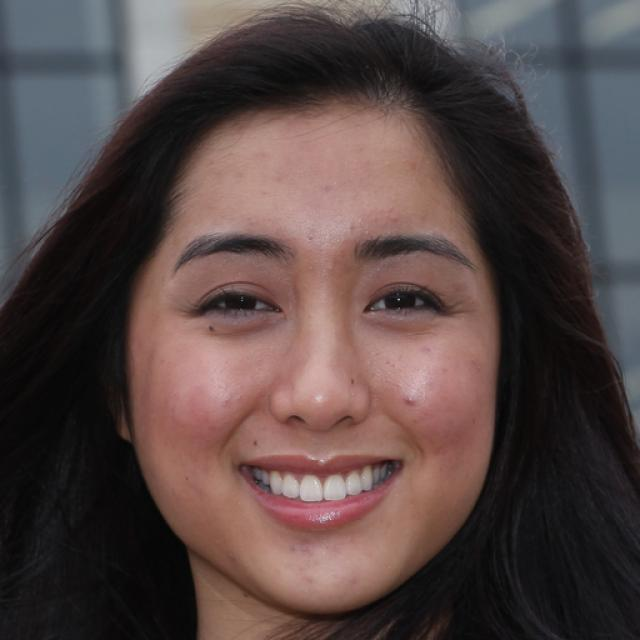Acne: (394, 388, 430, 411)
